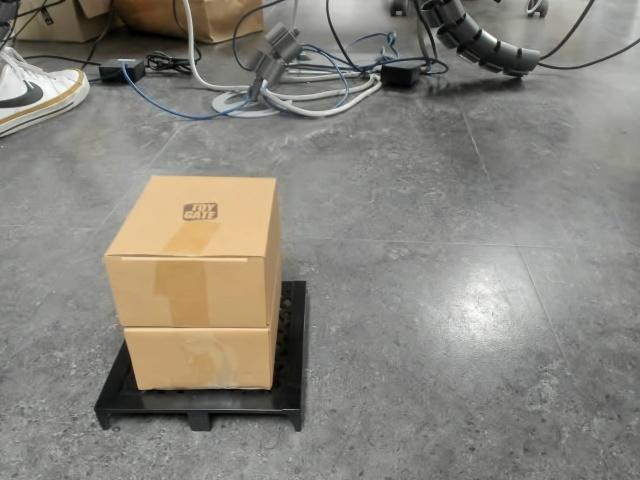box: (93, 173, 312, 431)
